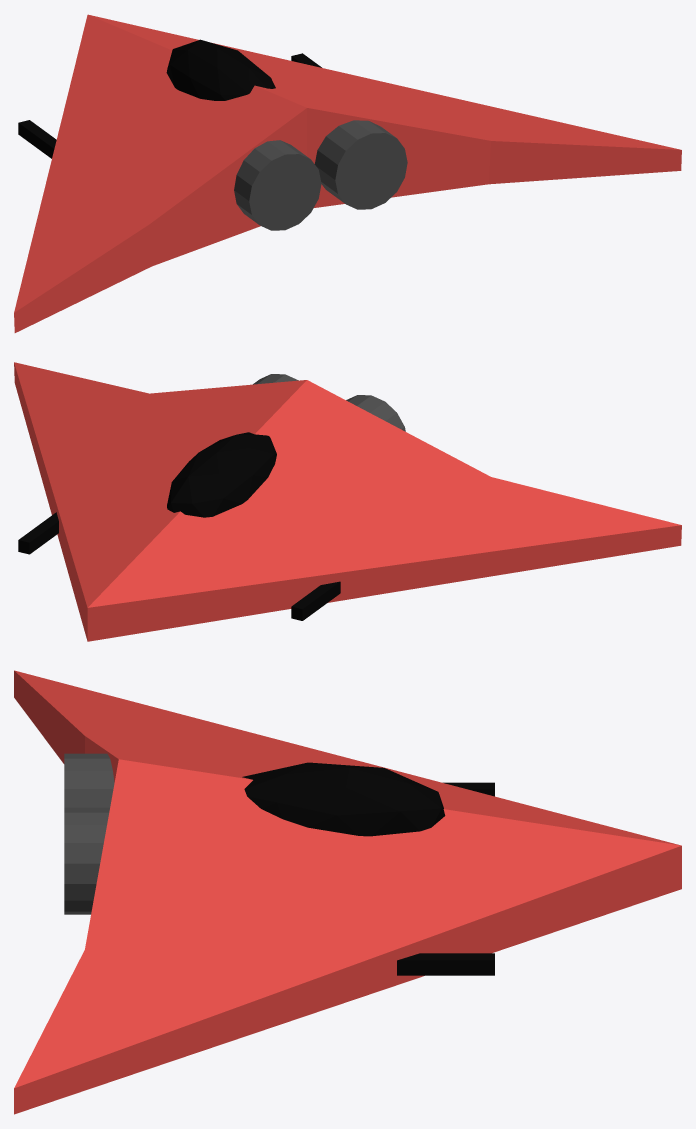
The model's file is enemy.glb.
3 views of the same model, one above another, from view 1: azimuth 30°, elevation 25°; view 2: azimuth 150°, elevation 25°; view 3: azimuth 270°, elevation 25° (orthographic). The views are drawn at different scales.
Visible parts, largest first — view 1: Cube, Cylinder, Icosphere, Cube.001; view 2: Cube, Icosphere, Cube.001, Cylinder; view 3: Cube, Icosphere, Cylinder, Cube.001.
Part boxes in pixels (box(x1,y1,x2,y2)): Cube: box(14, 14, 681, 332); Cylinder: box(234, 120, 407, 230); Icosphere: box(166, 39, 275, 100); Cube.001: box(18, 53, 321, 158); Cube: box(14, 362, 681, 641); Icosphere: box(167, 432, 276, 517); Cube.001: box(18, 512, 340, 620); Cylinder: box(253, 374, 405, 431); Cube: box(14, 670, 681, 1114); Icosphere: box(242, 762, 445, 836); Cylinder: box(64, 753, 114, 914); Cube.001: box(397, 782, 494, 975).
Size of the model in its own units: 2.38 by 0.3902 by 1.61.
